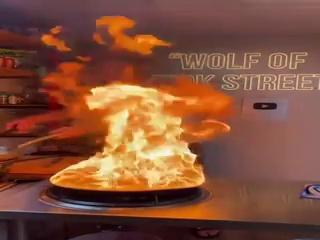Fire: (41, 28, 209, 188)
